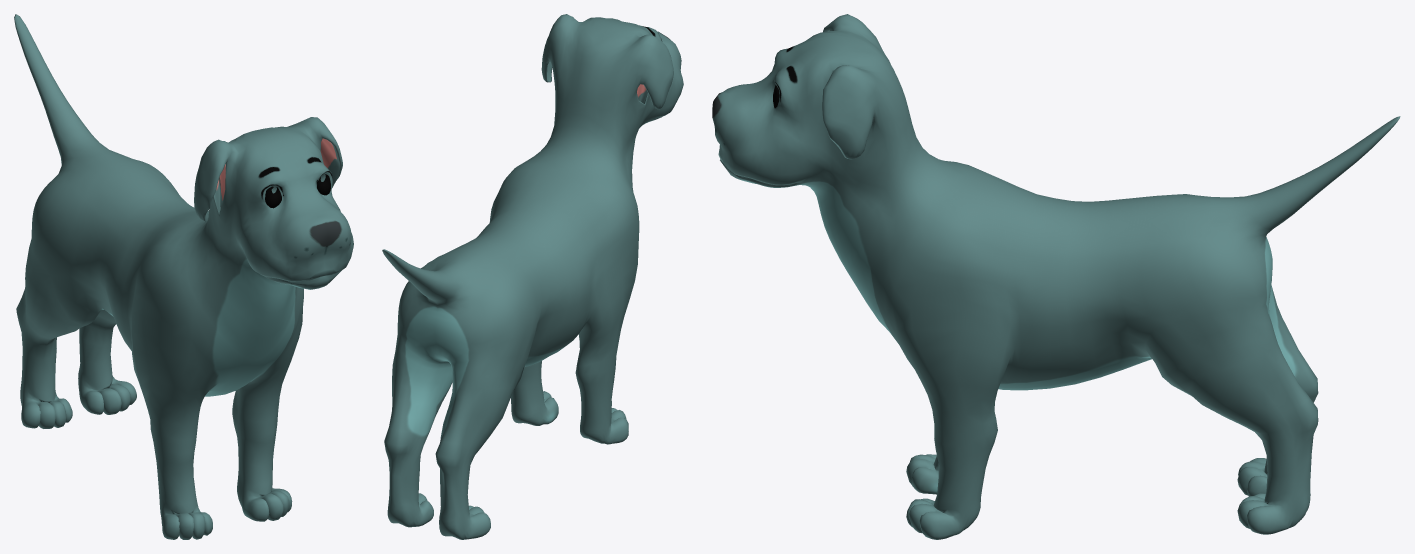
File: Perrito.fbx
The picture shows the model from 3 angles, left to right: view 1: azimuth 30°, elevation 25°; view 2: azimuth 150°, elevation 25°; view 3: azimuth 270°, elevation 25°; orthographic projection. The views are drawn at different scales.
Visible parts, largest first — view 1: perrito1; view 2: perrito1; view 3: perrito1.
Part boxes in pixels (left/top/right/bottom): perrito1: left=14, top=14, right=353, bottom=539; perrito1: left=382, top=14, right=683, bottom=539; perrito1: left=712, top=14, right=1400, bottom=539.
Bounding box in the file's own units: 23.57 × 66.39 × 88.58.
